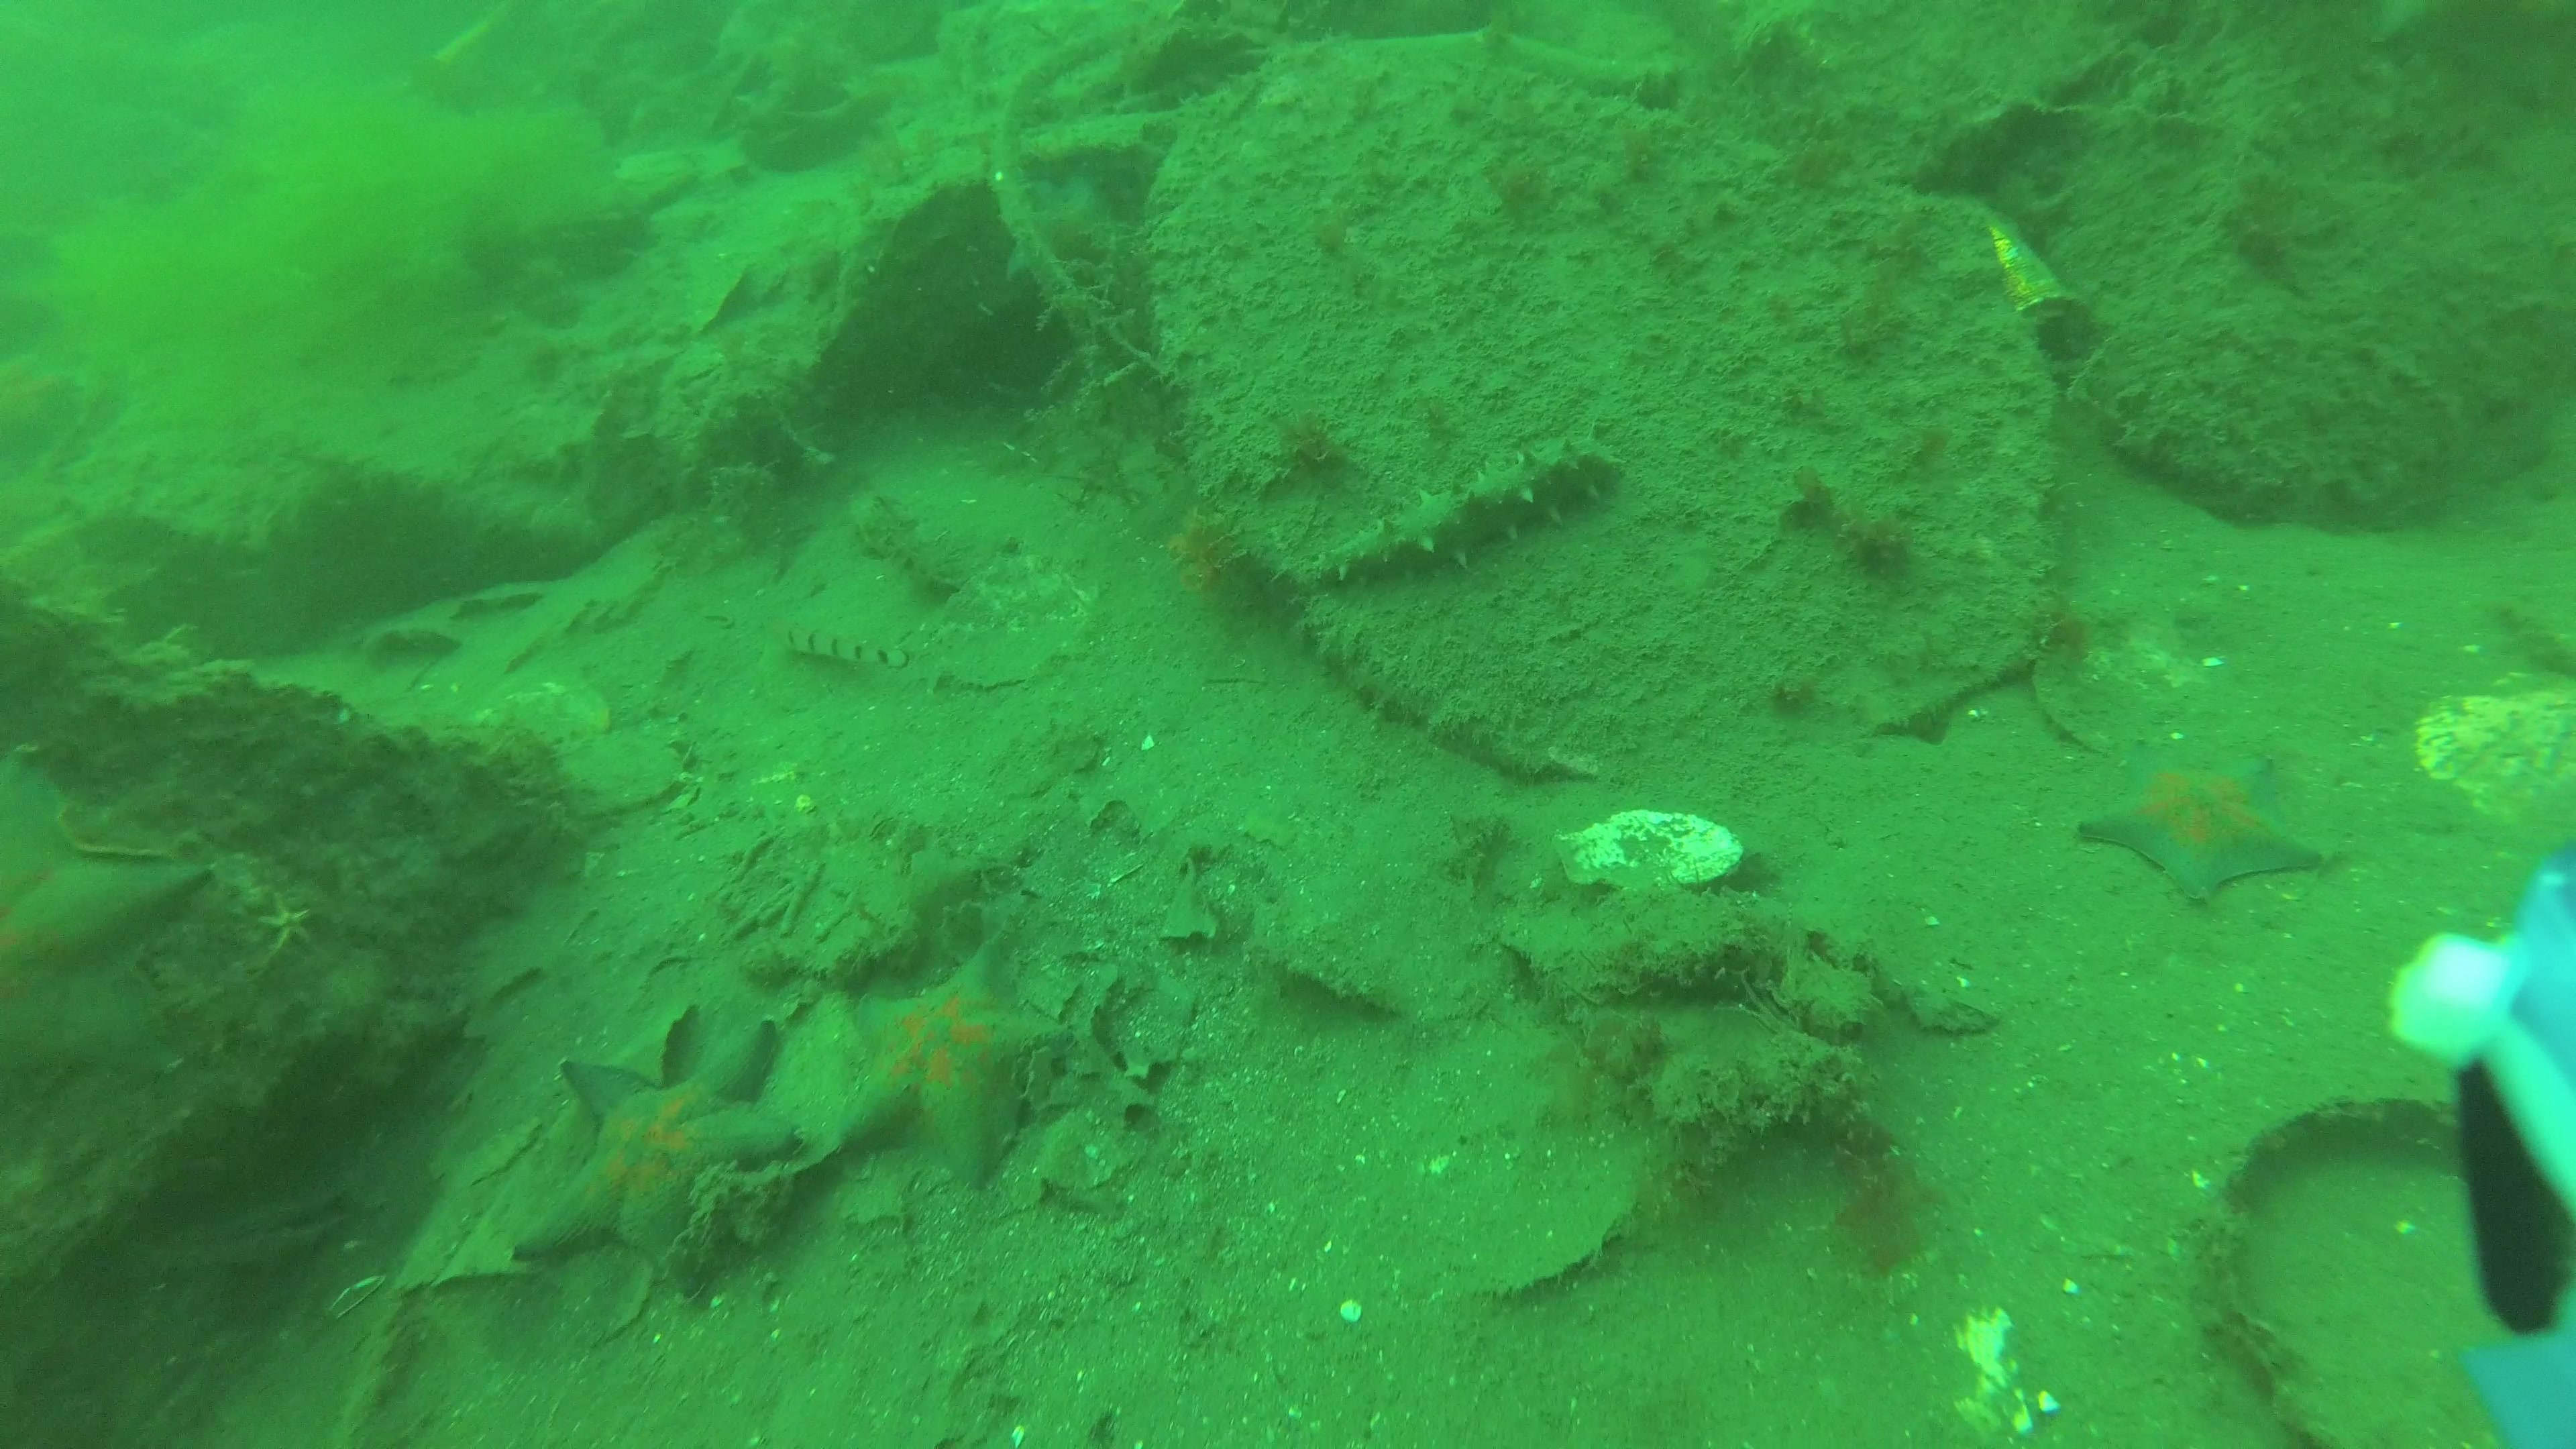holothurian: (1304, 430, 1631, 586)
scallop: (915, 547, 1097, 688), (2415, 692, 2576, 828), (2033, 642, 2213, 757), (1467, 1196, 1640, 1300), (1555, 805, 1744, 893), (550, 731, 683, 819)
starfish: (515, 1012, 800, 1263), (2, 741, 209, 1081), (830, 927, 1074, 1185), (2081, 754, 2327, 904), (1023, 175, 1131, 290), (253, 892, 327, 957)
